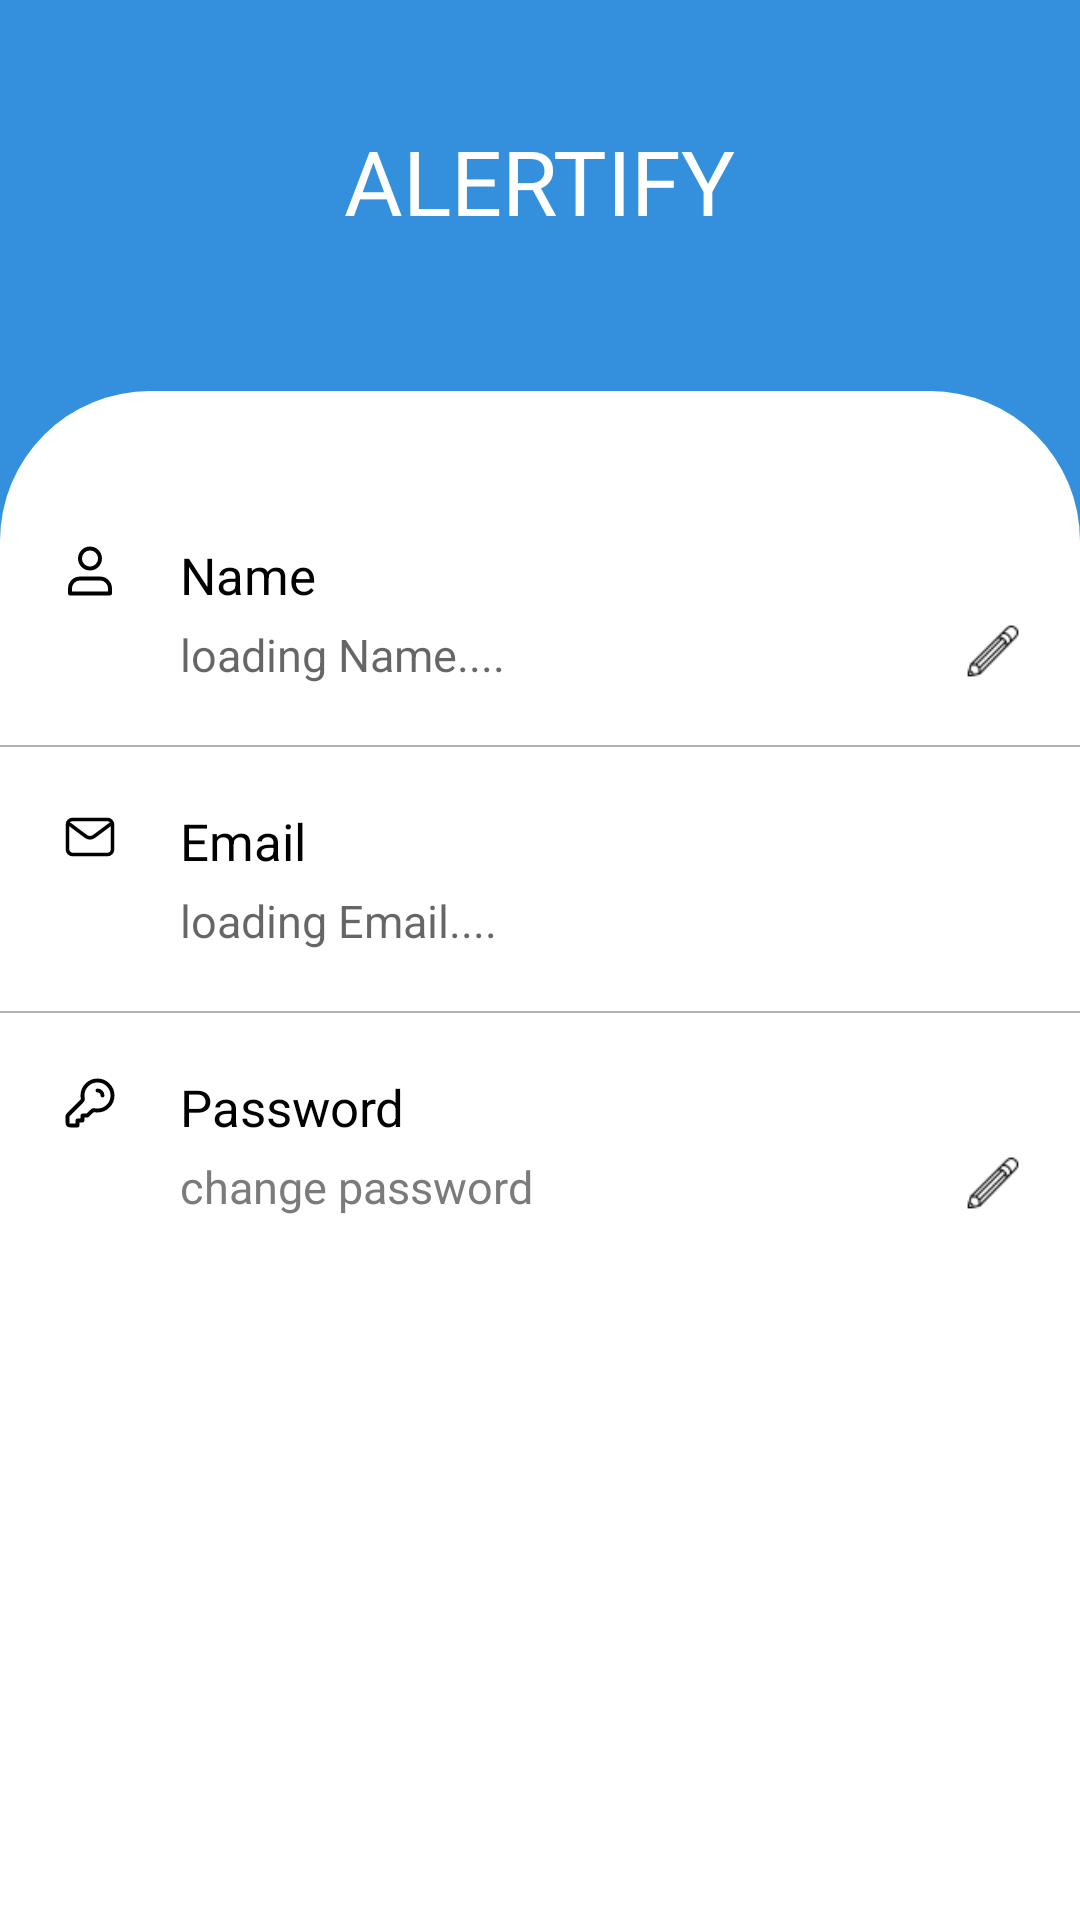

Where to tap for icons on this 1080×1920 app screen, as [x,y]:
key: [90,1103]
pencil: [993,651], [993,1183]
user: [90,571]
